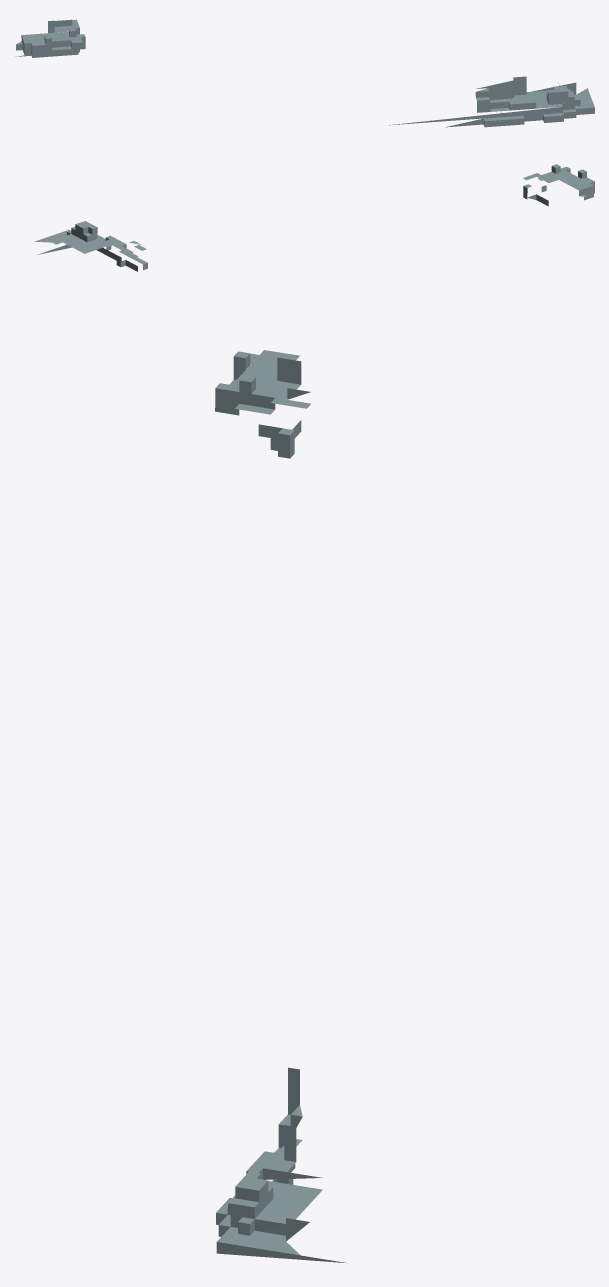
3 renders of one model, top to bottom at view 1: azimuth 30°, elevation 25°; view 2: azimuth 150°, elevation 25°; view 3: azimuth 270°, elevation 25°, orthographic. The views are drawn at different scales.
Parts seen in each view (by area): view 1: measured-industrial; view 2: measured-industrial; view 3: measured-industrial.
Part boxes in pixels (left/top/right/bottom): measured-industrial: left=15, top=19, right=594, bottom=127; measured-industrial: left=35, top=164, right=594, bottom=271; measured-industrial: left=215, top=350, right=347, bottom=1263.
Size of the model in its own units: 100 by 34.75 by 13.87.
